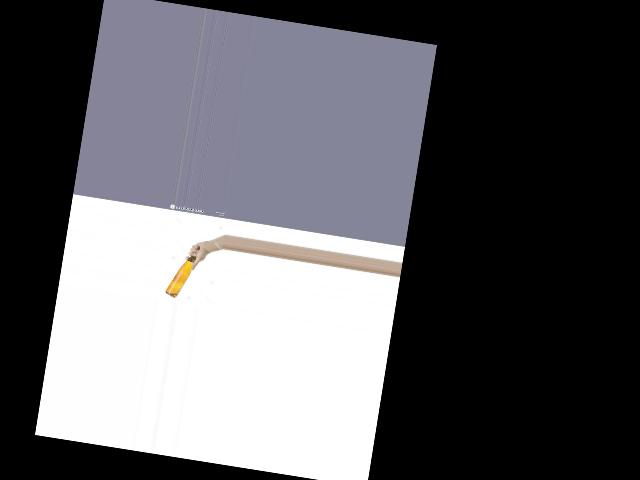beer: (164, 243, 199, 301)
